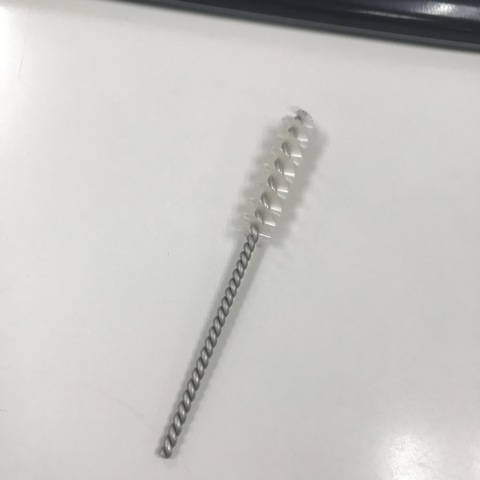Twist Brush-B: (154, 107, 323, 464)
